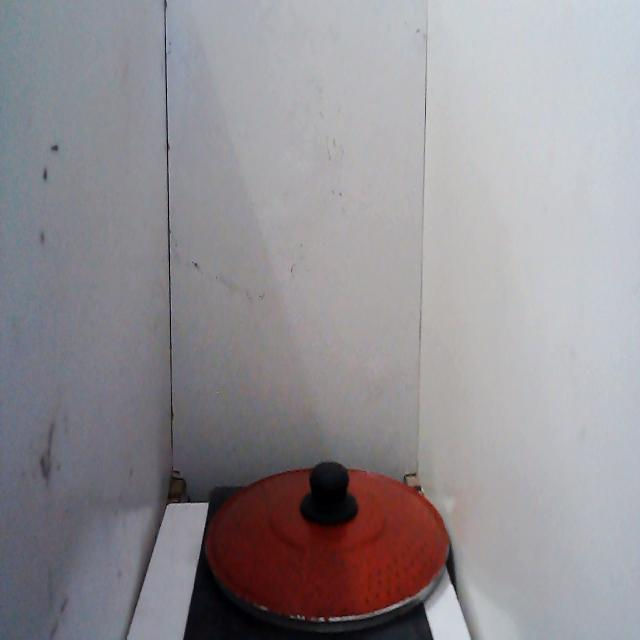metal: (199, 442, 455, 640)
